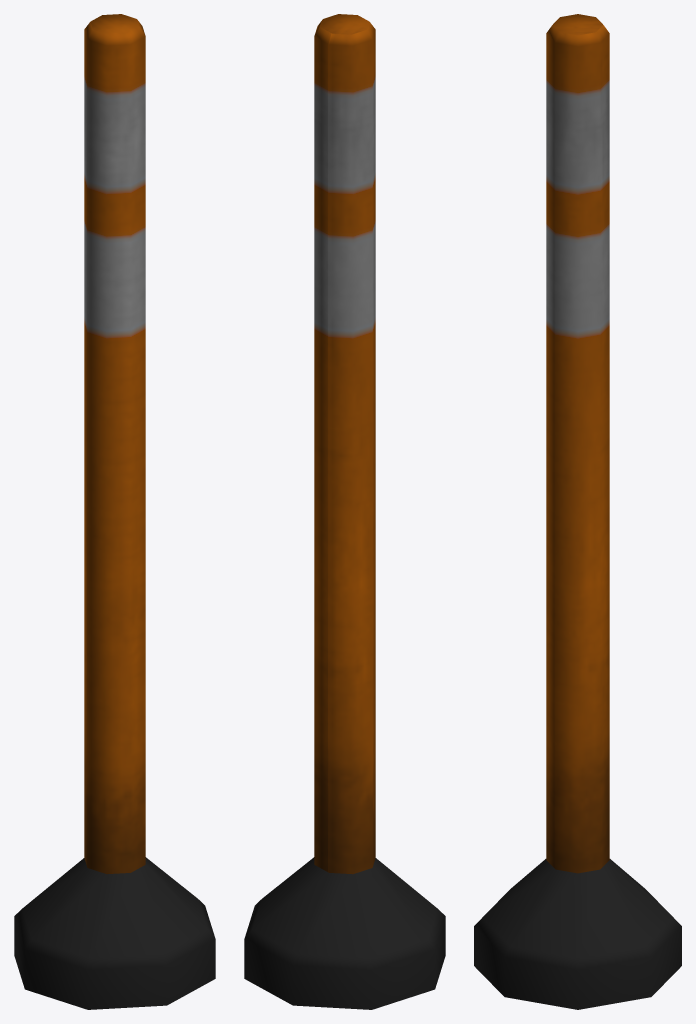
Rendered from Traffic_Pole_A_A.fbx.
The picture shows the model from 3 angles, left to right: view 1: azimuth 30°, elevation 25°; view 2: azimuth 150°, elevation 25°; view 3: azimuth 270°, elevation 25°; orthographic projection.
Parts seen in each view (by area): view 1: Traffic_Pole_A_A; view 2: Traffic_Pole_A_A; view 3: Traffic_Pole_A_A.
Boxes of the visible parts, left/top/right/bottom form: Traffic_Pole_A_A: left=14, top=14, right=215, bottom=1009; Traffic_Pole_A_A: left=244, top=14, right=445, bottom=1009; Traffic_Pole_A_A: left=474, top=14, right=681, bottom=1009.
Size of the model in its own units: 20 by 100 by 20.
